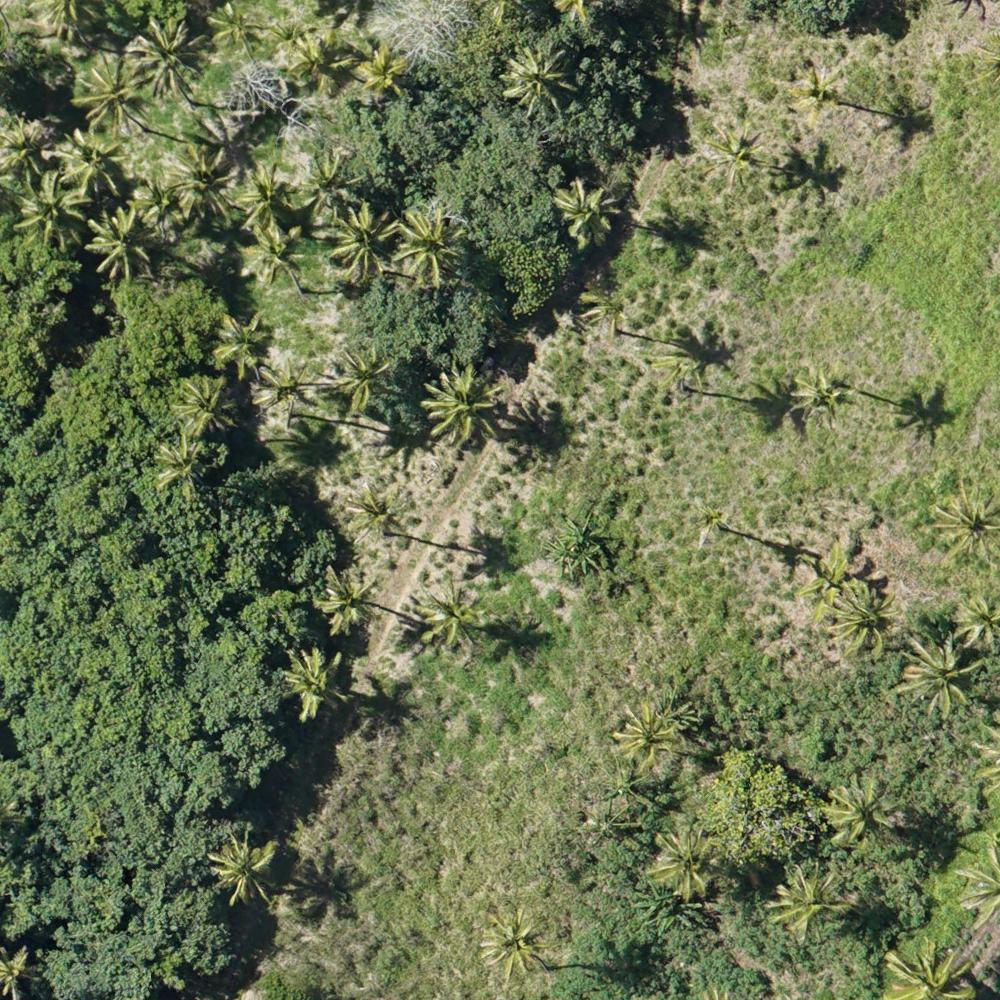Palm: (900, 632, 984, 716), (423, 367, 502, 443), (206, 828, 281, 907), (157, 148, 236, 221), (773, 868, 854, 939), (16, 174, 89, 249), (391, 208, 465, 281), (131, 16, 202, 92), (822, 777, 900, 846), (330, 205, 399, 283), (414, 579, 488, 651), (280, 647, 353, 719), (73, 60, 147, 130), (931, 486, 1000, 561), (84, 206, 154, 275), (503, 43, 571, 114), (614, 706, 685, 773), (831, 585, 898, 656), (650, 832, 721, 898), (51, 132, 122, 196), (313, 565, 381, 631), (334, 344, 398, 413), (235, 168, 303, 231), (478, 917, 544, 981), (555, 181, 622, 244), (299, 152, 360, 221), (172, 379, 238, 440), (248, 223, 310, 284), (212, 312, 272, 374), (256, 362, 312, 428), (791, 366, 852, 426), (348, 481, 405, 544), (290, 28, 347, 90), (707, 126, 765, 185), (788, 68, 845, 128), (153, 438, 208, 493), (355, 45, 407, 101), (955, 596, 1000, 651), (207, 4, 257, 50)
